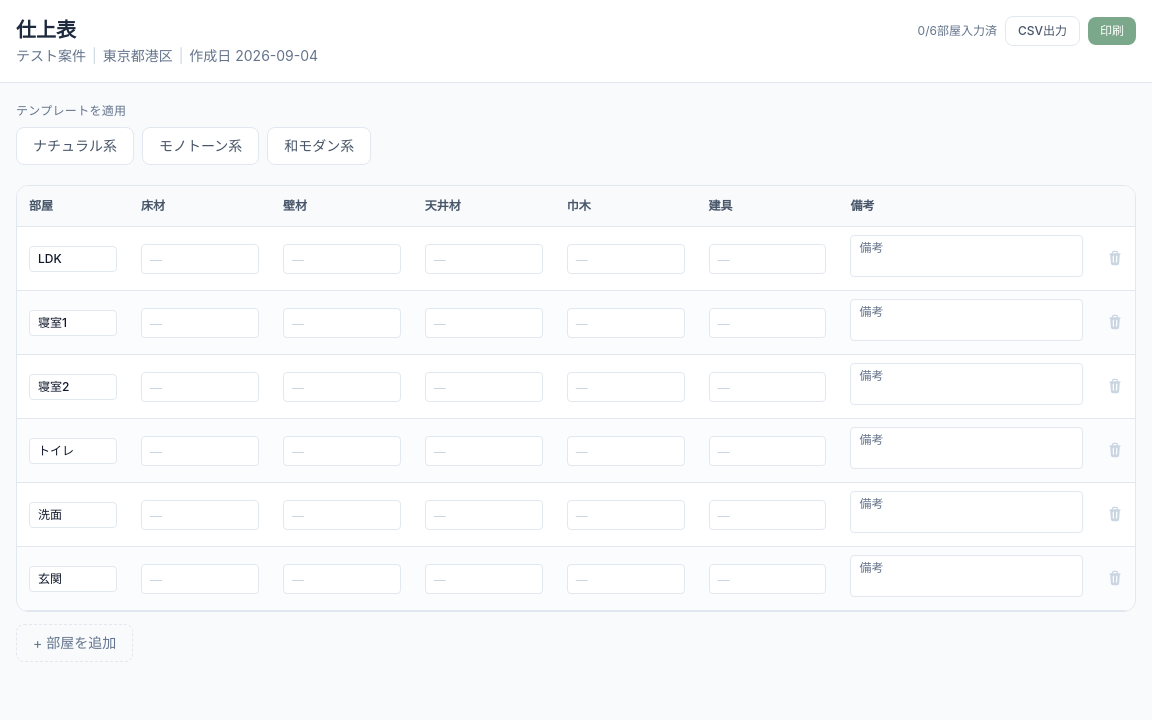
Test: FinishingSchedulePage — セル編集 › 床材セルボタンをクリックするとドロップダウンが開く
The image size is (1152, 720).
What coordinates should you click on to do the following:
click the 1st button with test id "cell-button-床材"
I would click on:
 (200, 258)
Its box is x1=141 y1=244 x2=259 y2=274.
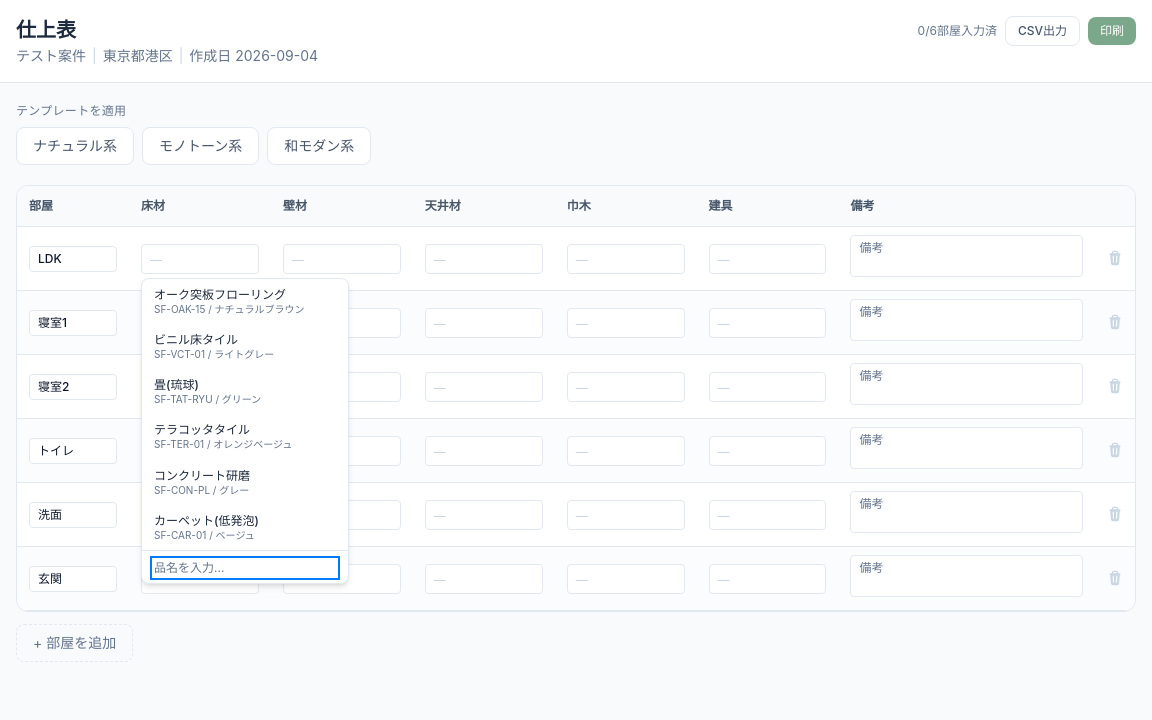
Check: the element with test id "cell-dropdown-床材" is shown, box x1=141 y1=278 x2=349 y2=584
